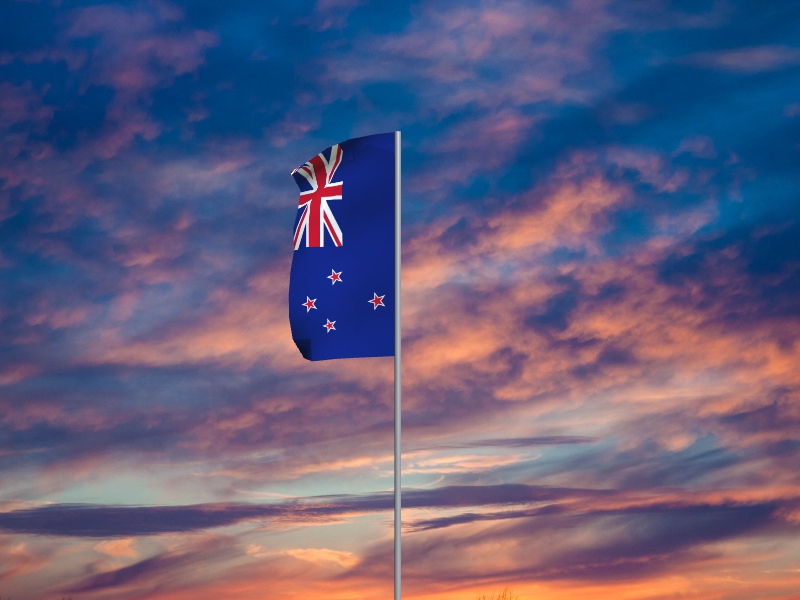nz: (288, 133, 396, 363)
